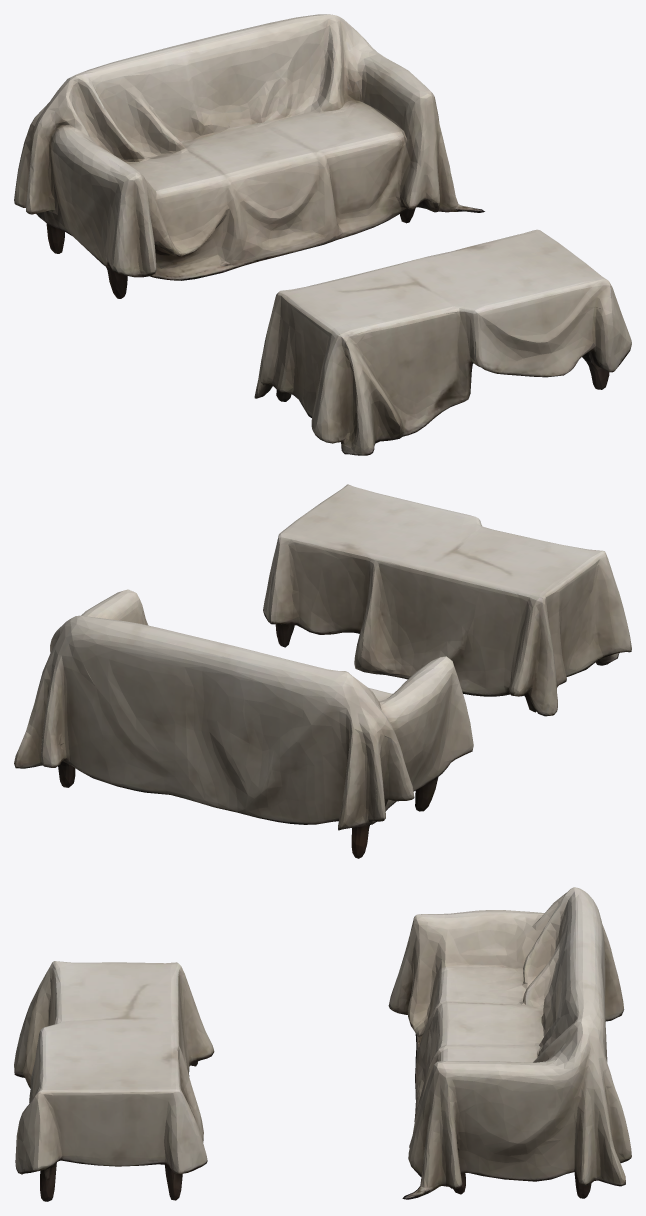
File: covered_furniture.glb
The picture shows the model from 3 angles, top to bottom: view 1: azimuth 30°, elevation 25°; view 2: azimuth 150°, elevation 25°; view 3: azimuth 270°, elevation 25°; orthographic projection.
Visible parts, largest first — view 1: geometry_0; view 2: geometry_0; view 3: geometry_0.
Part boxes in pixels (<box>): geometry_0: <box>14,14,631,455</box>; geometry_0: <box>14,484,631,858</box>; geometry_0: <box>14,887,631,1201</box>.
Size of the model in its own units: 0.717 by 0.3359 by 0.999.
Materials: 1 (1 with a texture image).
